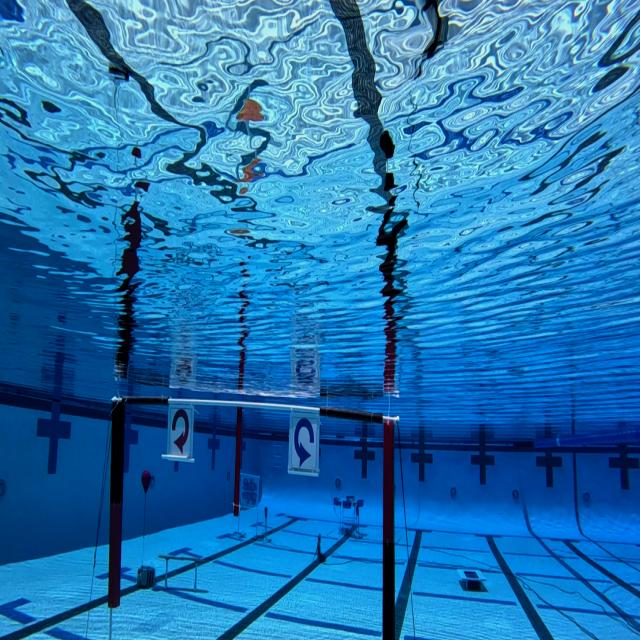blue_side: (289, 416, 317, 476)
red_side: (167, 404, 192, 461)
